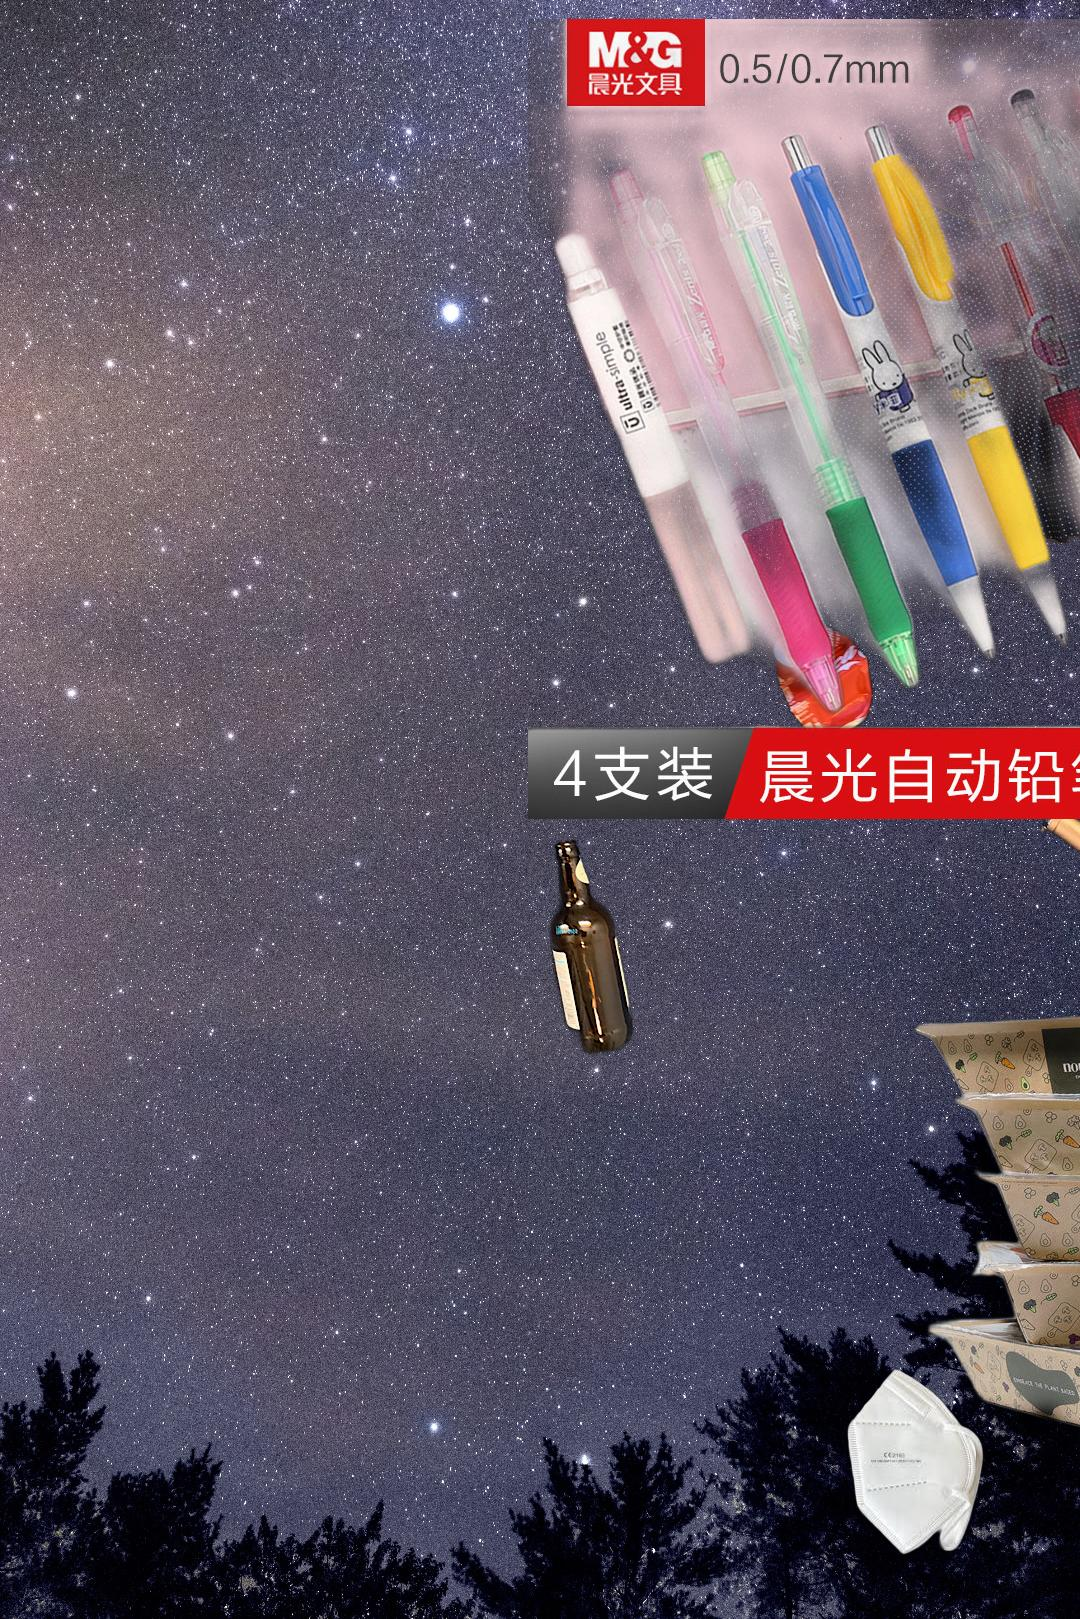clothes: (799, 158, 1080, 565)
glass: (546, 833, 638, 1060), (1037, 800, 1080, 1017)
metal-cans: (768, 614, 877, 745)
penholder: (528, 19, 1080, 819)
trash: (845, 1366, 986, 1558)
trashbox-cardboard: (911, 998, 1080, 1445)
